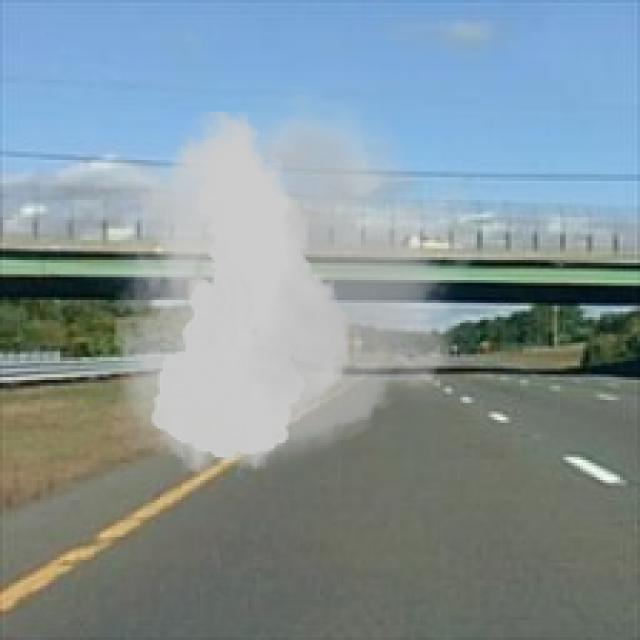smoke: (83, 86, 497, 486)
